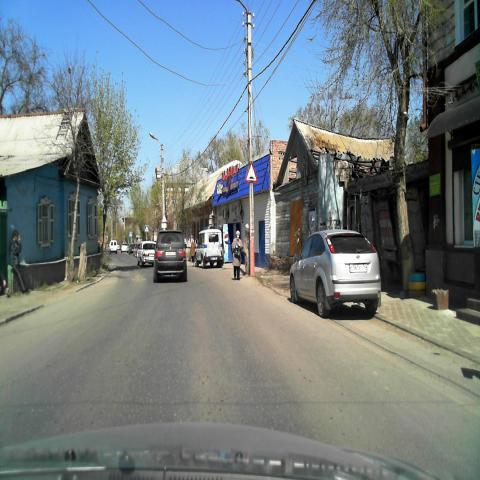1_17: (246, 162, 257, 184)
